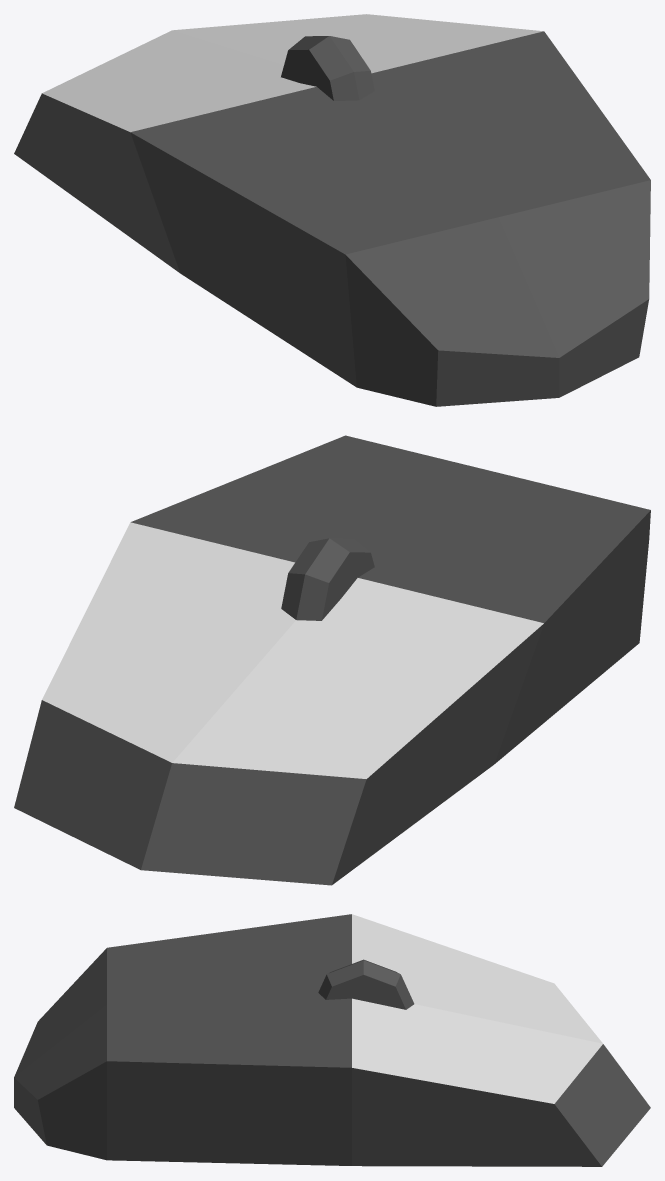
File: mouse.glb
3 views of the same model, one above another, from view 1: azimuth 30°, elevation 25°; view 2: azimuth 150°, elevation 25°; view 3: azimuth 270°, elevation 25° (orthographic). The views are drawn at different scales.
Parts seen in each view (by area): view 1: Computer_Mouse; view 2: Computer_Mouse; view 3: Computer_Mouse.
Boxes of the visible parts, x1,y1,x2,y2 form: Computer_Mouse: [14, 14, 650, 406]; Computer_Mouse: [14, 435, 650, 885]; Computer_Mouse: [14, 914, 650, 1166].
Bounding box in the file's own units: 0.0866 × 0.0387 × 0.1516.
1 material, 1 textured.
